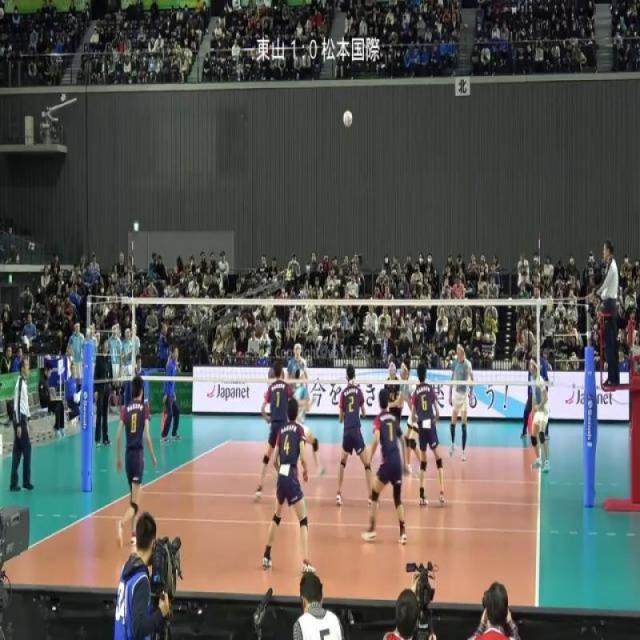volleyball: (342, 109, 354, 129)
